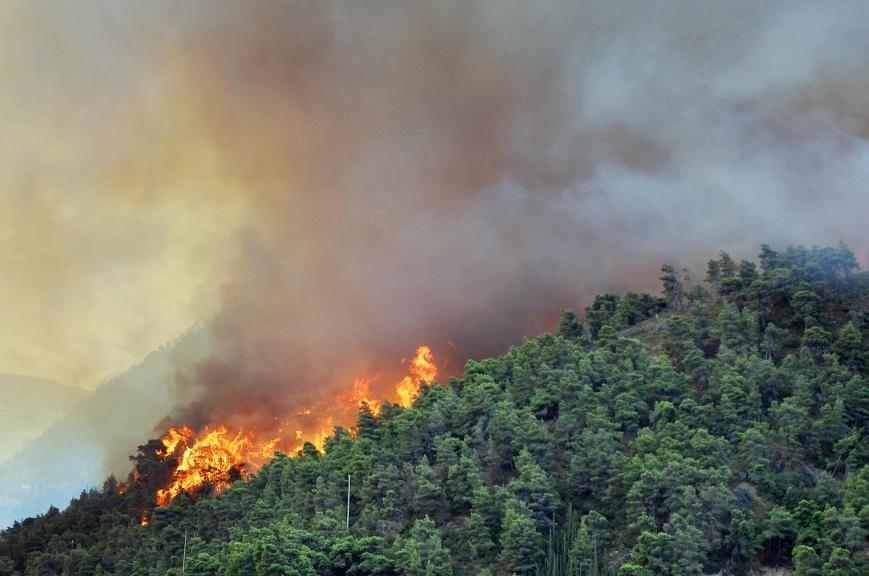Fire: (113, 329, 458, 542)
